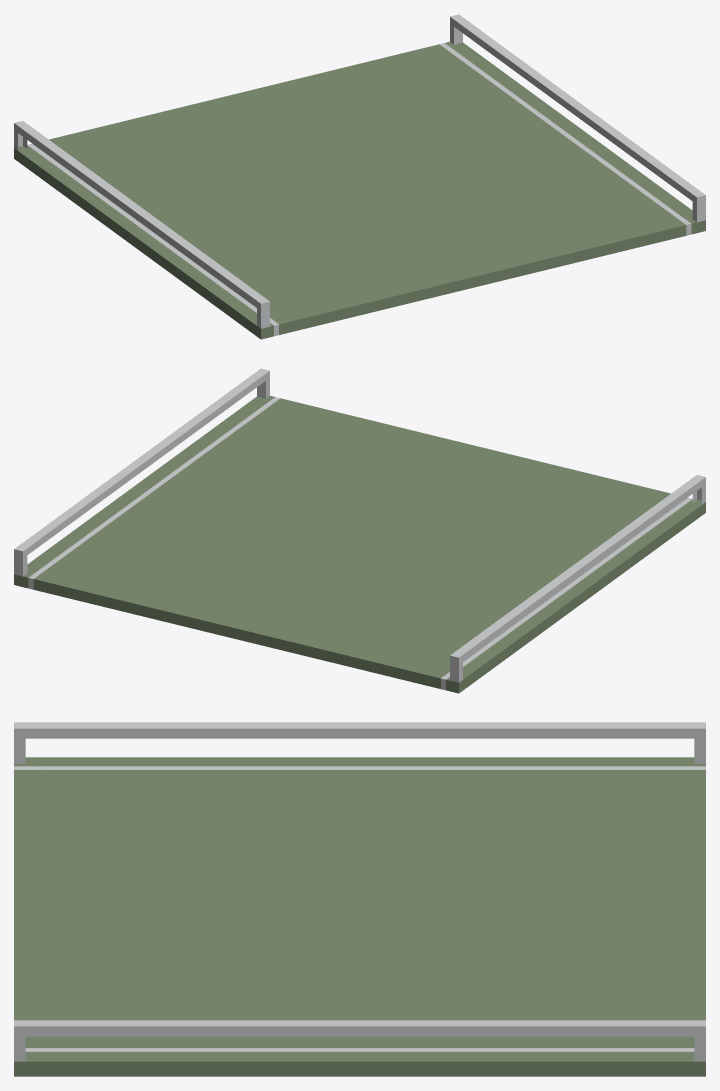
The model's file is Road_06.fbx.
3 renders of one model, top to bottom at view 1: azimuth 30°, elevation 25°; view 2: azimuth 150°, elevation 25°; view 3: azimuth 270°, elevation 25°, orthographic. The views are drawn at different scales.
Visible parts, largest first — view 1: Road_06; view 2: Road_06; view 3: Road_06.
Part boxes in pixels (bbox=[...]): Road_06: bbox=[14, 14, 705, 339]; Road_06: bbox=[14, 368, 705, 693]; Road_06: bbox=[14, 722, 705, 1076].
Size of the model in its own units: 2600 by 200 by 2500.
